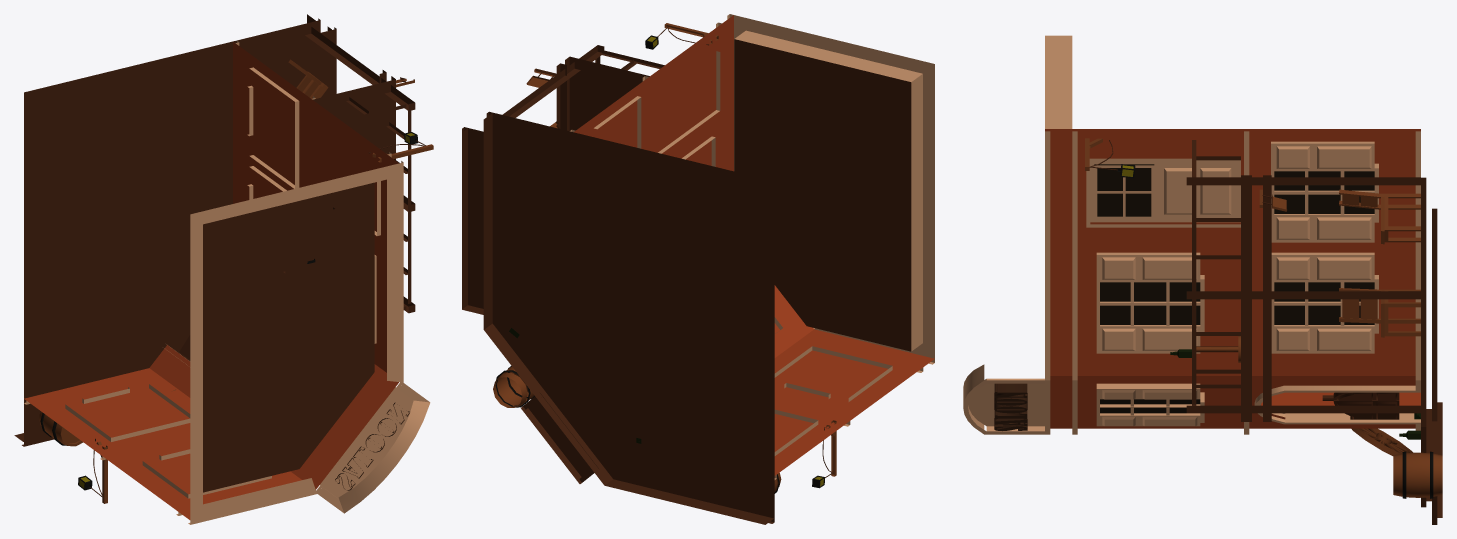
File: saloon.obj
3 views of the same model, side by side, from view 1: azimuth 30°, elevation 25°; view 2: azimuth 150°, elevation 25°; view 3: azimuth 270°, elevation 25° (orthographic). The views are drawn at different scales.
Parts seen in each view (by area): view 1: Building_Cube.001, Plane, Balcony_Cube.011, Luke_Cube.052, Log.010_Cube.022, Window.005_Cube.018, Window.002_Cube.013, Log.005_Cube.020, Barrel_Cylinder, Window.001_Cube.010, Chair.001_Wooden_Chair_Chair.001; view 2: Plane, Building_Cube.001, Balcony_Cube.011, Log.010_Cube.022, Barrel.002_Cylinder.009, Window.001_Cube.010, Log.003_Cube.015, Door_Cube.044; view 3: Building_Cube.001, Window.003_Cube.014, Door_Cube.044, Window.005_Cube.018, Window.004_Cube.017, Window_Cube.048, Plane, Balcony_Cube.011, Barrel.002_Cylinder.009, Log.003_Cube.015, Chair_Wooden_Chair_Chair, Log.010_Cube.022 (+8 smaller).
Part boxes in pixels (box(x1,y1,x2,y2)): Building_Cube.001: box(24, 40, 430, 524); Plane: box(14, 14, 336, 446); Balcony_Cube.011: box(313, 76, 395, 159); Luke_Cube.052: box(283, 207, 335, 273); Log.010_Cube.022: box(305, 27, 415, 111); Window.005_Cube.018: box(247, 67, 299, 188); Window.002_Cube.013: box(65, 384, 190, 441); Log.005_Cube.020: box(408, 110, 411, 303); Barrel_Cylinder: box(39, 411, 83, 446); Window.001_Cube.010: box(142, 449, 271, 498); Chair.001_Wooden_Chair_Chair.001: box(288, 59, 328, 98); Plane: box(462, 111, 774, 524); Building_Cube.001: box(570, 14, 934, 479); Balcony_Cube.011: box(565, 56, 649, 131); Log.010_Cube.022: box(502, 45, 604, 117); Barrel.002_Cylinder.009: box(493, 366, 534, 407); Window.001_Cube.010: box(774, 346, 892, 401); Log.003_Cube.015: box(556, 63, 566, 130); Door_Cube.044: box(658, 51, 720, 153); Building_Cube.001: box(963, 35, 1420, 434); Window.003_Cube.014: box(1096, 252, 1204, 353); Door_Cube.044: box(1086, 158, 1240, 227); Window.005_Cube.018: box(1271, 141, 1378, 242); Window.004_Cube.017: box(1271, 252, 1378, 353); Window_Cube.048: box(1096, 383, 1204, 426); Plane: box(1421, 177, 1442, 524); Balcony_Cube.011: box(1241, 175, 1251, 421); Barrel.002_Cylinder.009: box(1393, 451, 1442, 498); Log.003_Cube.015: box(1263, 175, 1271, 421); Chair_Wooden_Chair_Chair: box(1339, 288, 1420, 337); Log.010_Cube.022: box(1186, 177, 1420, 185).
Size of the model in its own units: 1.53 by 1.65 by 1.76.
